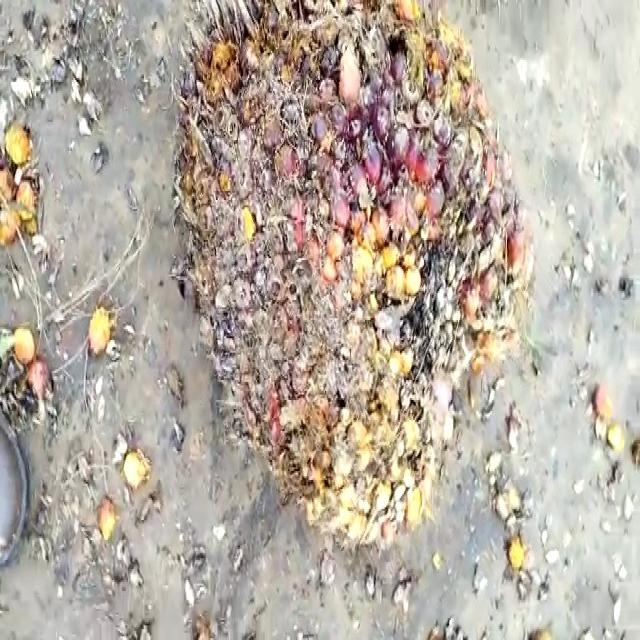palm oil: (168, 0, 537, 560)
